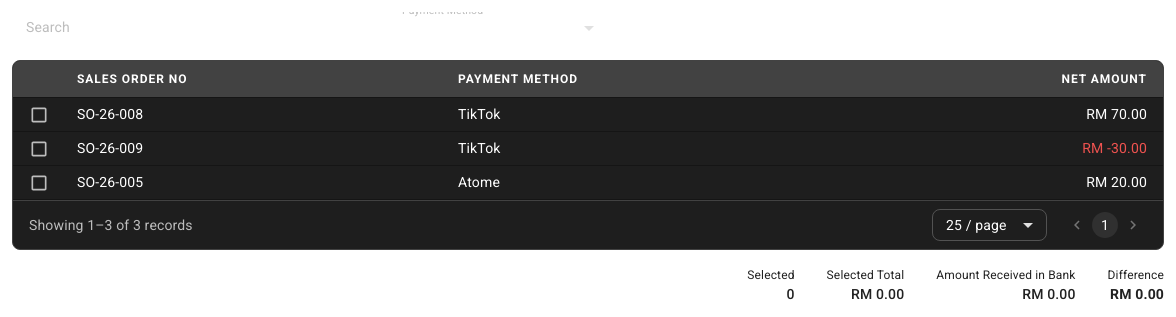
Test case: SettlementRowPicker › names the search in the empty row when a search is active
This screenshot has width=1176, height=317.
In the field labelled "Search": coordinates (192, 28) [12,14,372,42], type "zzz"
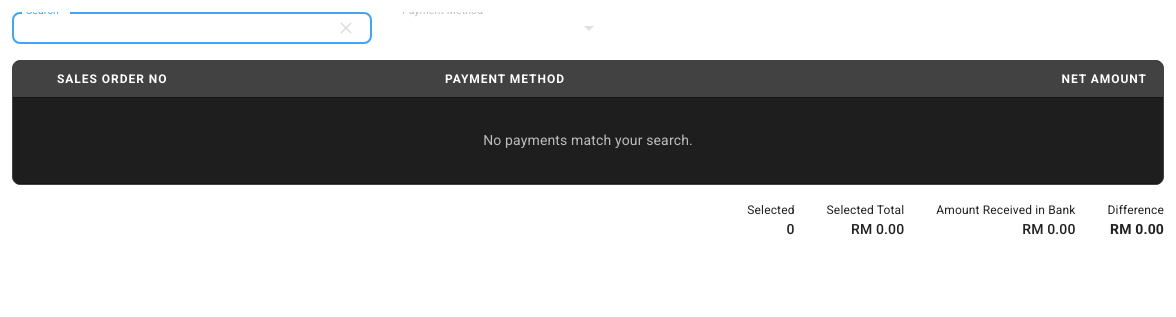
Now the text "No payments match your search." is shown, box [13,98,1163,184]
